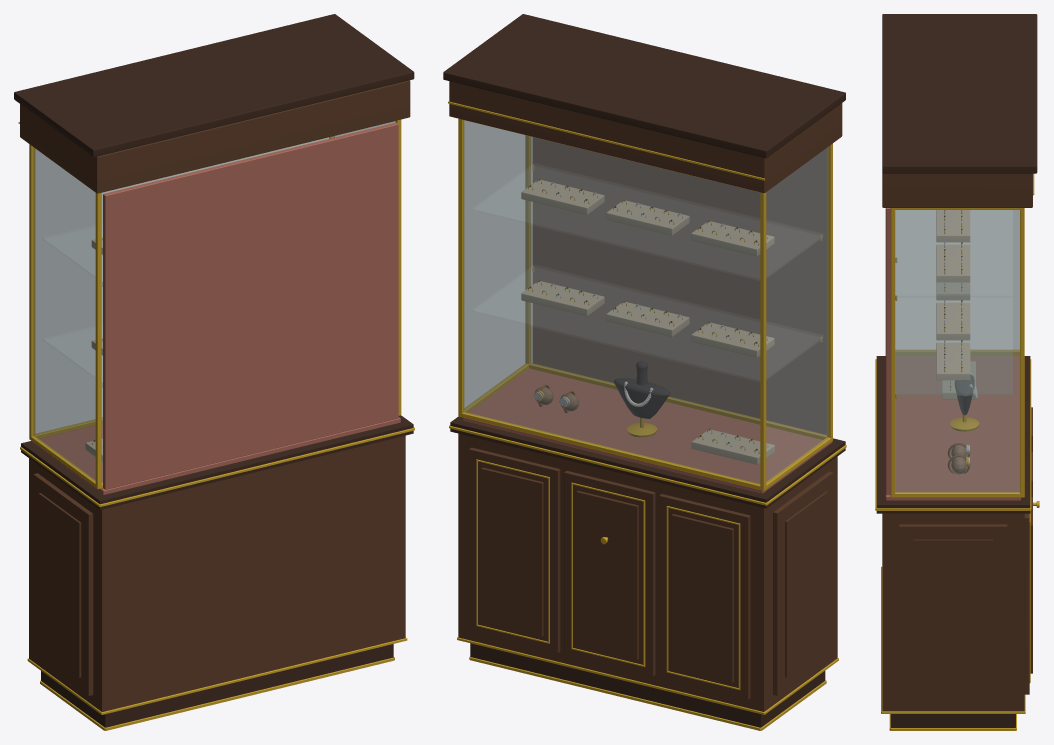
File: prop_display_case_wall.glb
The picture shows the model from 3 angles, left to right: view 1: azimuth 30°, elevation 25°; view 2: azimuth 150°, elevation 25°; view 3: azimuth 270°, elevation 25°; orthographic projection. The views are drawn at different scales.
Parts seen in each view (by area): view 1: Body, Glass; view 2: Body, Glass, Display; view 3: Body, Glass, Display.
Part boxes in pixels (x1=…): Body: x1=14, y1=14, x2=414, y2=730; Glass: x1=33, y1=121, x2=396, y2=482; Body: x1=443, y1=14, x2=846, y2=730; Glass: x1=463, y1=120, x2=829, y2=484; Display: x1=521, y1=179, x2=774, y2=464; Body: x1=875, y1=14, x2=1039, y2=730; Glass: x1=895, y1=210, x2=1019, y2=492; Display: x1=936, y1=210, x2=979, y2=474.
Bounding box in the file's own units: 1.27 × 2.22 × 0.577.
